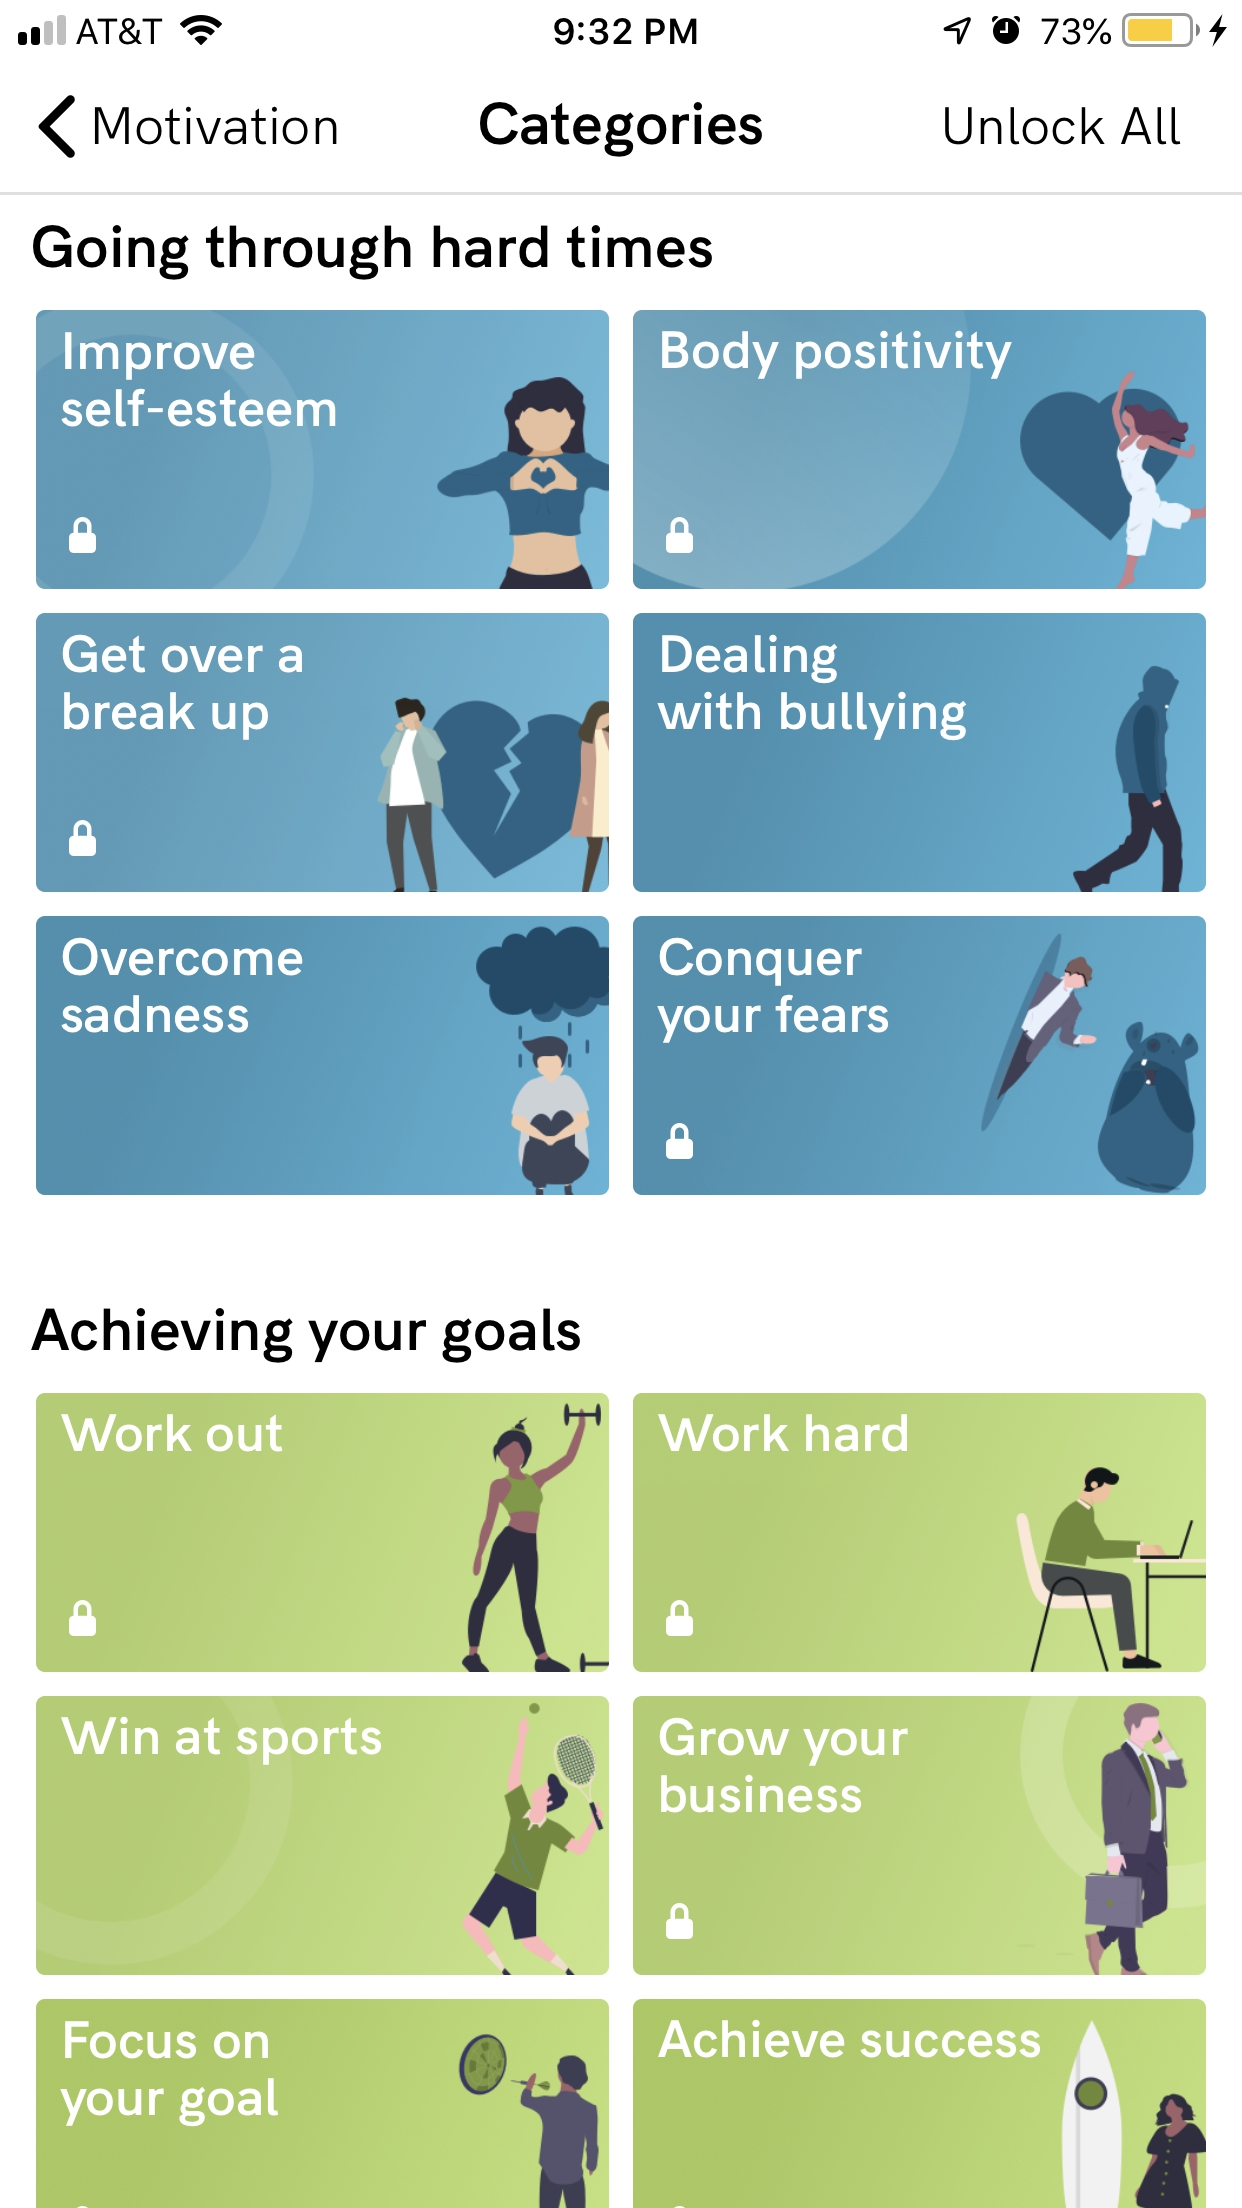Icon: (38, 96, 77, 161), (666, 517, 695, 555), (70, 517, 99, 555), (70, 1600, 99, 1636), (70, 820, 99, 857), (666, 1124, 693, 1160), (667, 1905, 695, 1940), (667, 1601, 695, 1636)
Image: (983, 934, 1206, 1195), (378, 698, 610, 892), (1019, 372, 1206, 588), (461, 1403, 610, 1673), (1015, 1465, 1206, 1673), (463, 1701, 605, 1976), (475, 927, 610, 1193), (438, 378, 608, 588), (1072, 667, 1204, 892), (1083, 1701, 1187, 1974), (1062, 2018, 1206, 2208), (459, 2034, 608, 2208)
Text: (33, 224, 713, 281), (660, 634, 968, 742), (32, 1307, 582, 1363), (61, 331, 337, 429), (62, 634, 303, 742), (657, 937, 889, 1045), (660, 1717, 908, 1814), (61, 2020, 281, 2128), (62, 939, 303, 1034), (661, 331, 1013, 381), (61, 1715, 384, 1767), (481, 102, 763, 158), (658, 2018, 1040, 2059), (657, 1413, 908, 1453), (96, 108, 338, 146), (61, 1412, 285, 1453), (943, 108, 1181, 146)
UpperTaskBar: (2, 2, 1242, 49)
